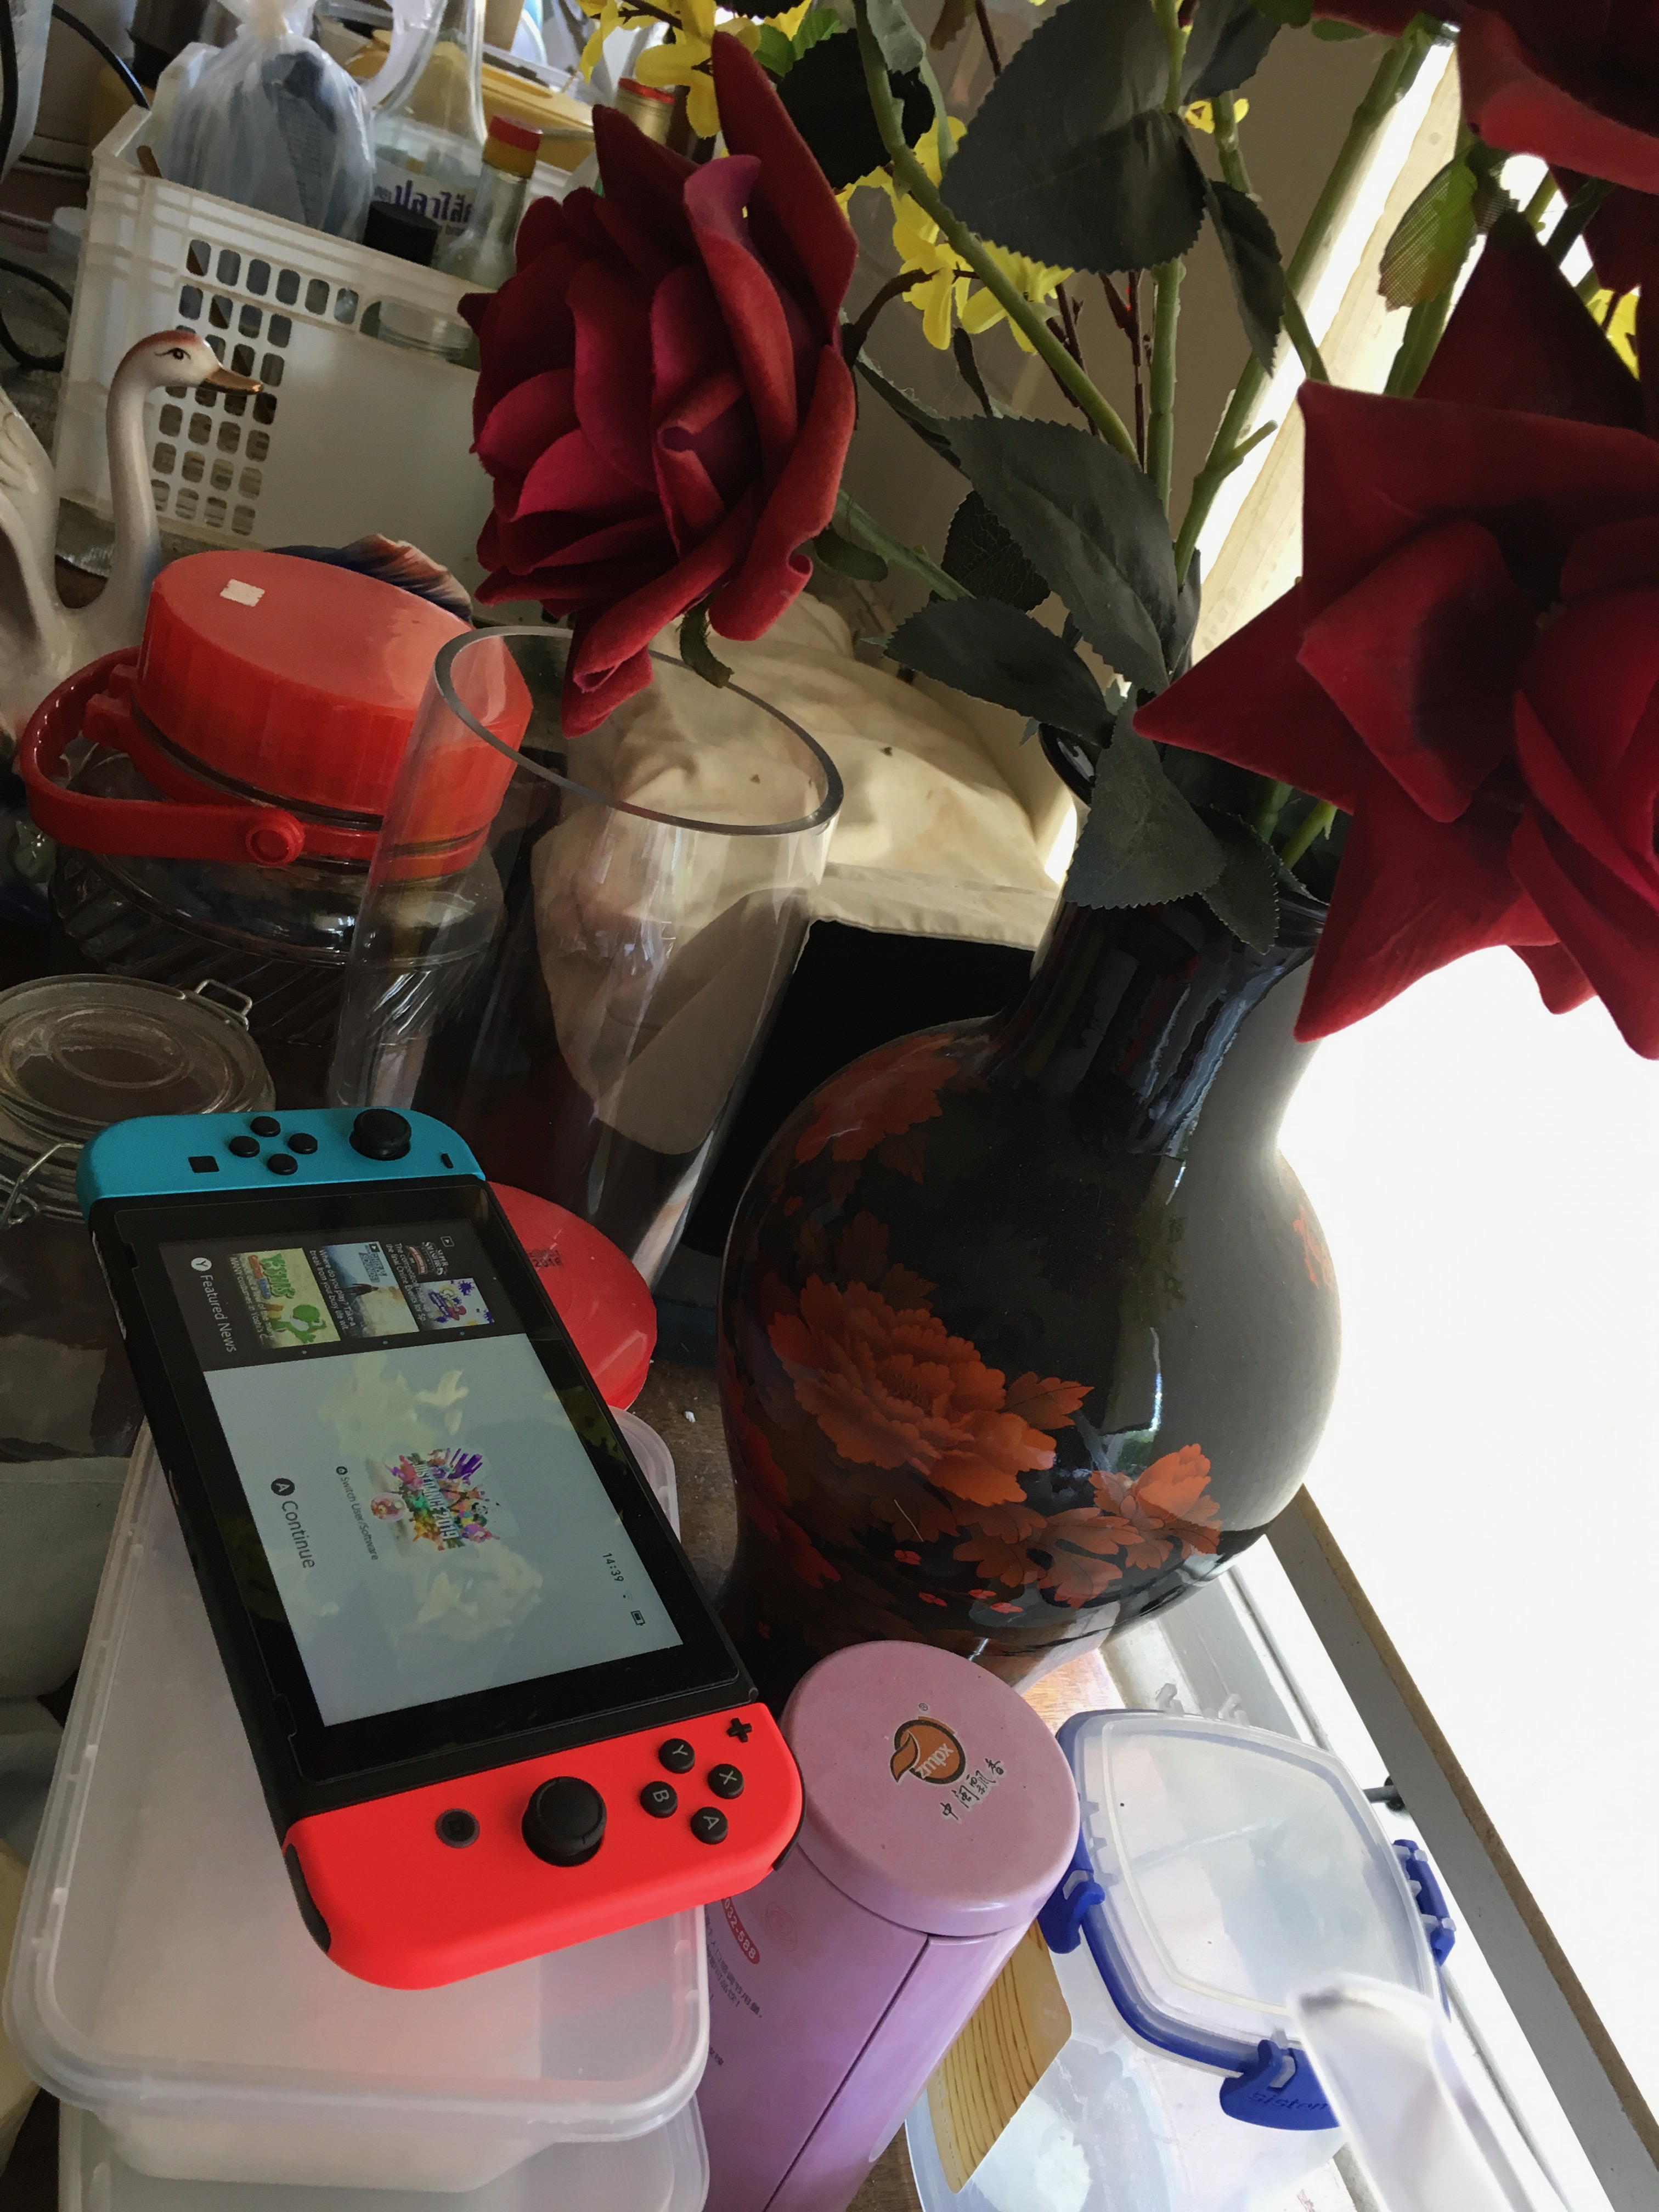NintendoSwitch: (68, 1080, 835, 2024)
